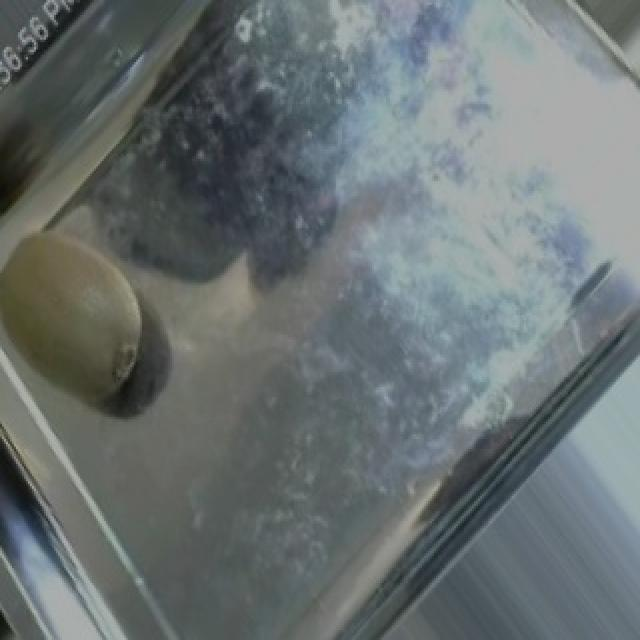Fruit: (0, 203, 180, 439)
